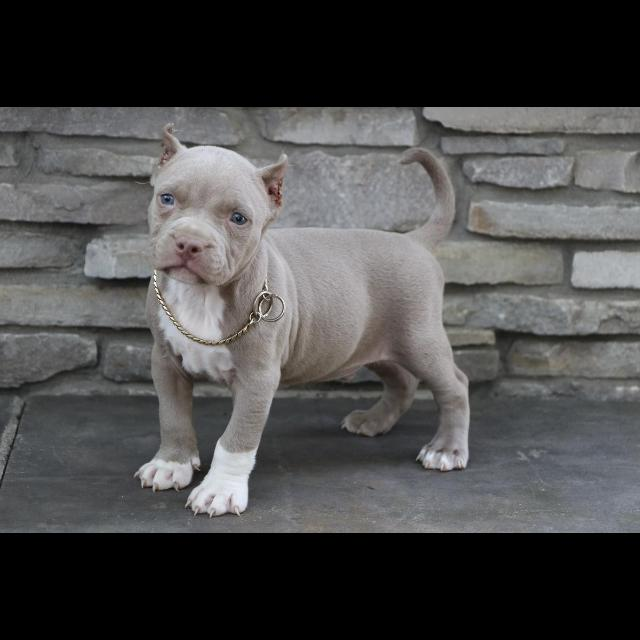am_pit_bull_terrier: (134, 123, 472, 520)
